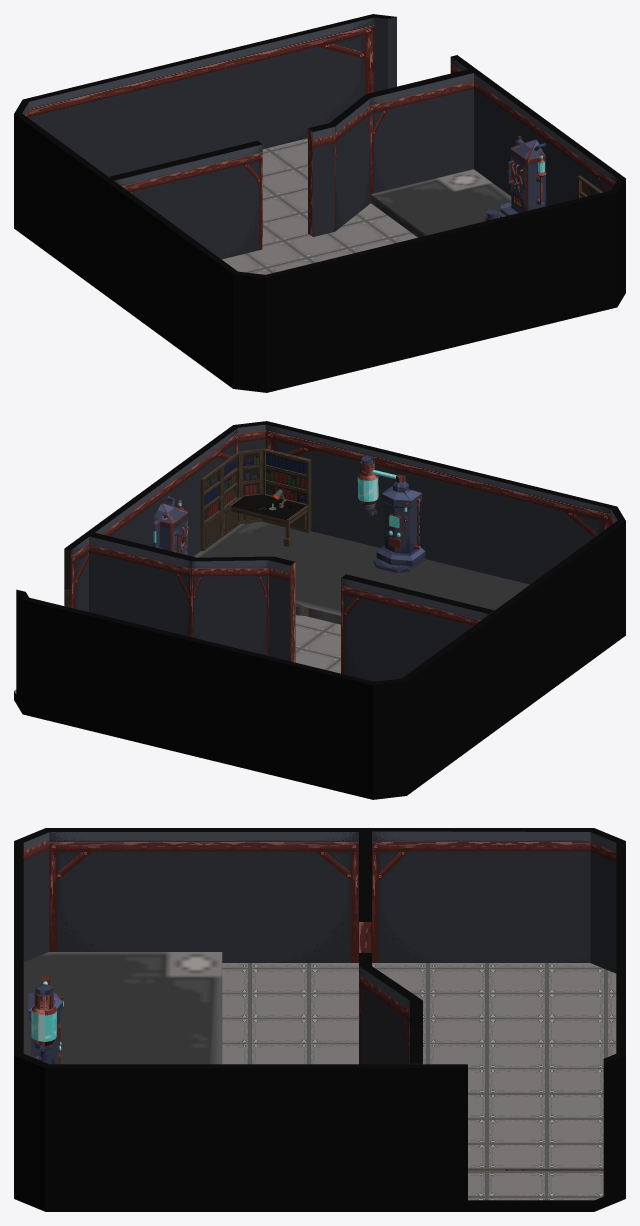
File: Craftroom.fbx
The picture shows the model from 3 angles, top to bottom: view 1: azimuth 30°, elevation 25°; view 2: azimuth 150°, elevation 25°; view 3: azimuth 270°, elevation 25°; orthographic projection. The views are drawn at different scales.
Visible parts, largest first — view 1: New object.015; view 2: New object.015; view 3: New object.015.
Boxes of the visible parts, bbox=[...] form: New object.015: bbox=[14, 14, 625, 392]; New object.015: bbox=[14, 421, 625, 799]; New object.015: bbox=[14, 828, 625, 1211].
Bounding box in the file's own units: 330 × 92.36 × 355.
Materials: 10 (9 with a texture image).
